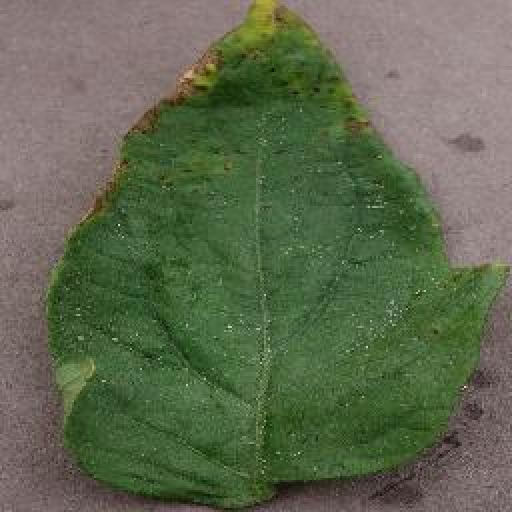Bacterial Spot: (42, 0, 510, 512)
